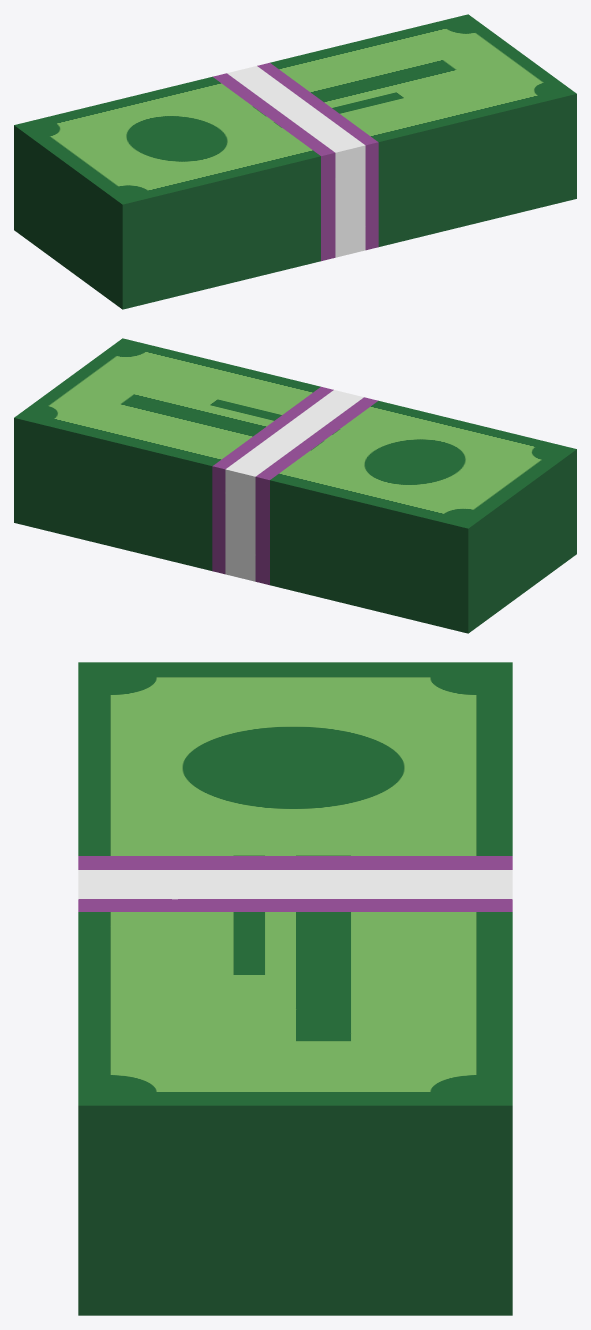
The model's file is Money_one.fbx.
3 views of the same model, one above another, from view 1: azimuth 30°, elevation 25°; view 2: azimuth 150°, elevation 25°; view 3: azimuth 270°, elevation 25° (orthographic). The views are drawn at different scales.
Visible parts, largest first — view 1: Money_one; view 2: Money_one; view 3: Money_one.
Boxes of the visible parts, left/top/right/bottom form: Money_one: left=14, top=14, right=576, bottom=309; Money_one: left=14, top=338, right=576, bottom=633; Money_one: left=78, top=662, right=512, bottom=1315.
Size of the model in its own units: 226 by 49.9 by 93.58.
